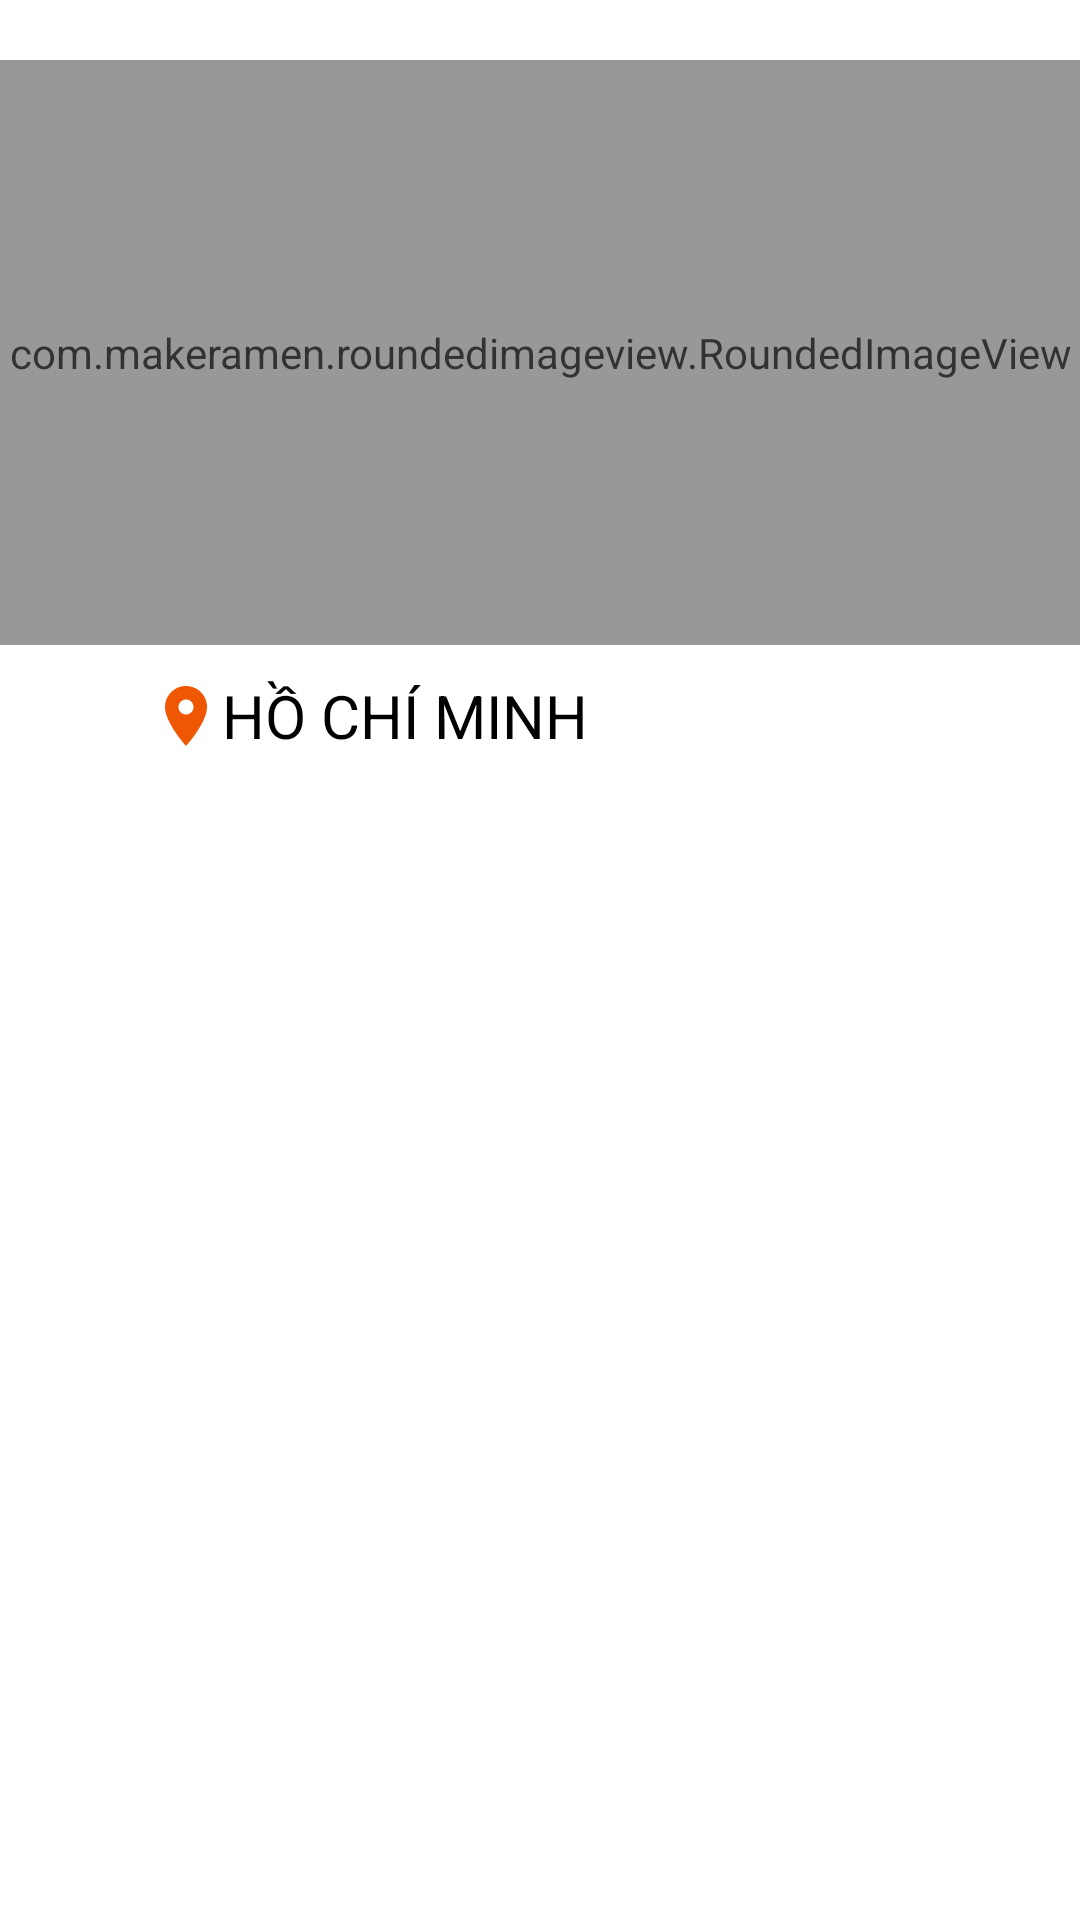

Named icons in this screenshot (1080px×1920px) and their centers, (x,y):
location: (186,716)
